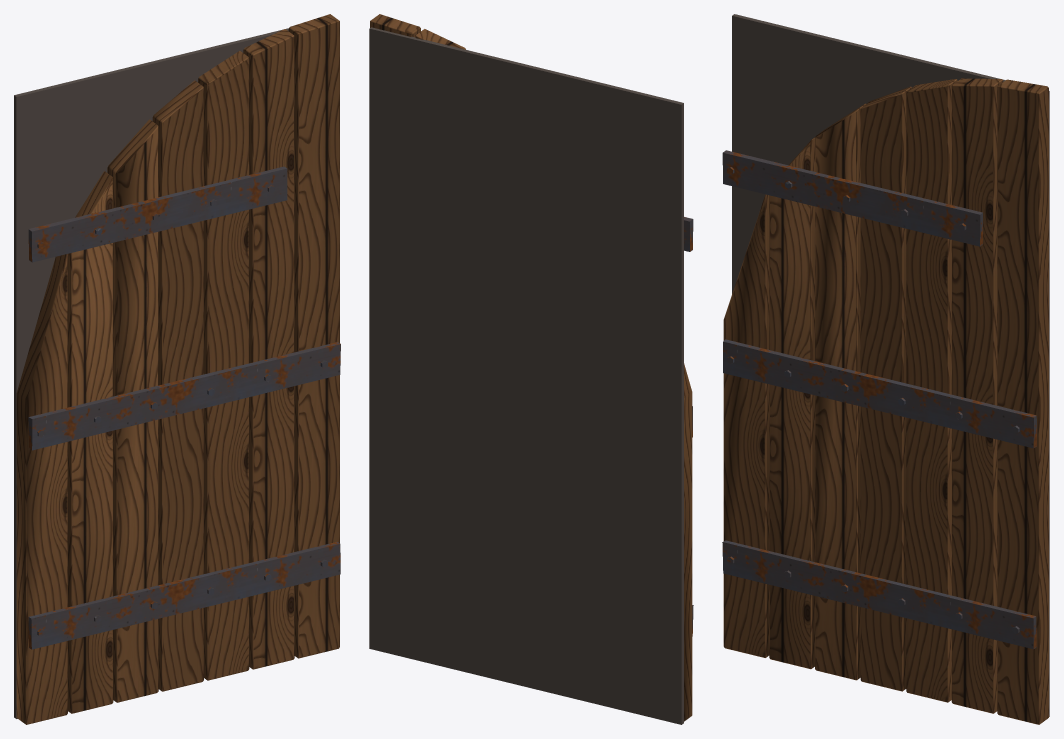
Rendered from Gate_Door_L.glb.
The picture shows the model from 3 angles, left to right: view 1: azimuth 30°, elevation 25°; view 2: azimuth 150°, elevation 25°; view 3: azimuth 330°, elevation 25°; orthographic projection.
Visible parts, largest first — view 1: Gate_Door_L; view 2: Gate_Door_L; view 3: Gate_Door_L.
Part boxes in pixels (x1,y1,x2,y2): Gate_Door_L: (14,14,340,724); Gate_Door_L: (369,14,693,724); Gate_Door_L: (722,14,1049,724).
Size of the model in its own units: 1.49 by 2.84 by 0.131.
3 materials, 2 textured.
